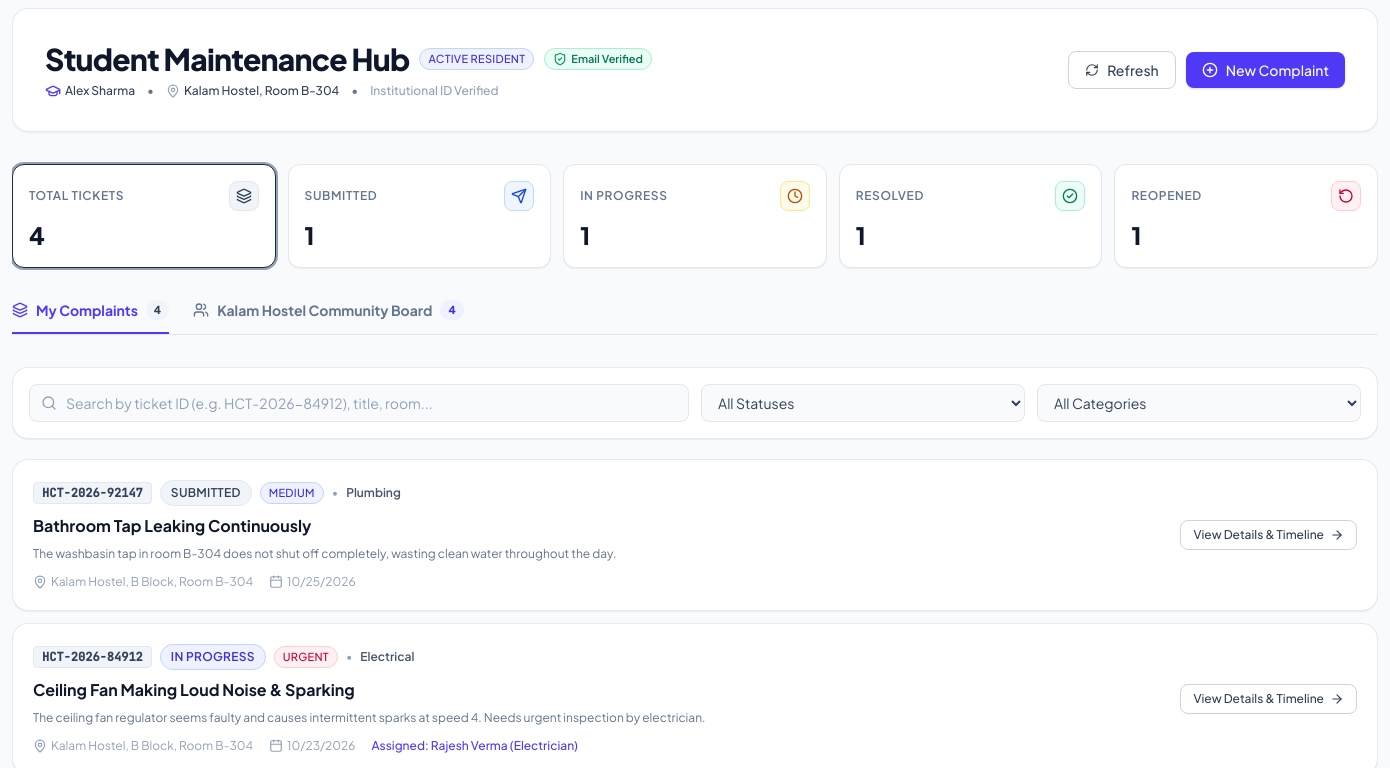
Scenario: StudentDashboardPage (Phase 2) › filters complaints by search query
Expected: the heading "Ceiling Fan Making Loud Noise & Sparking" is shown, [33,679,355,700]
Type "Ceiling Fan" into the field named "Search complaints by ticket ID, title, or room" at [359, 403], box [29,384,689,422]
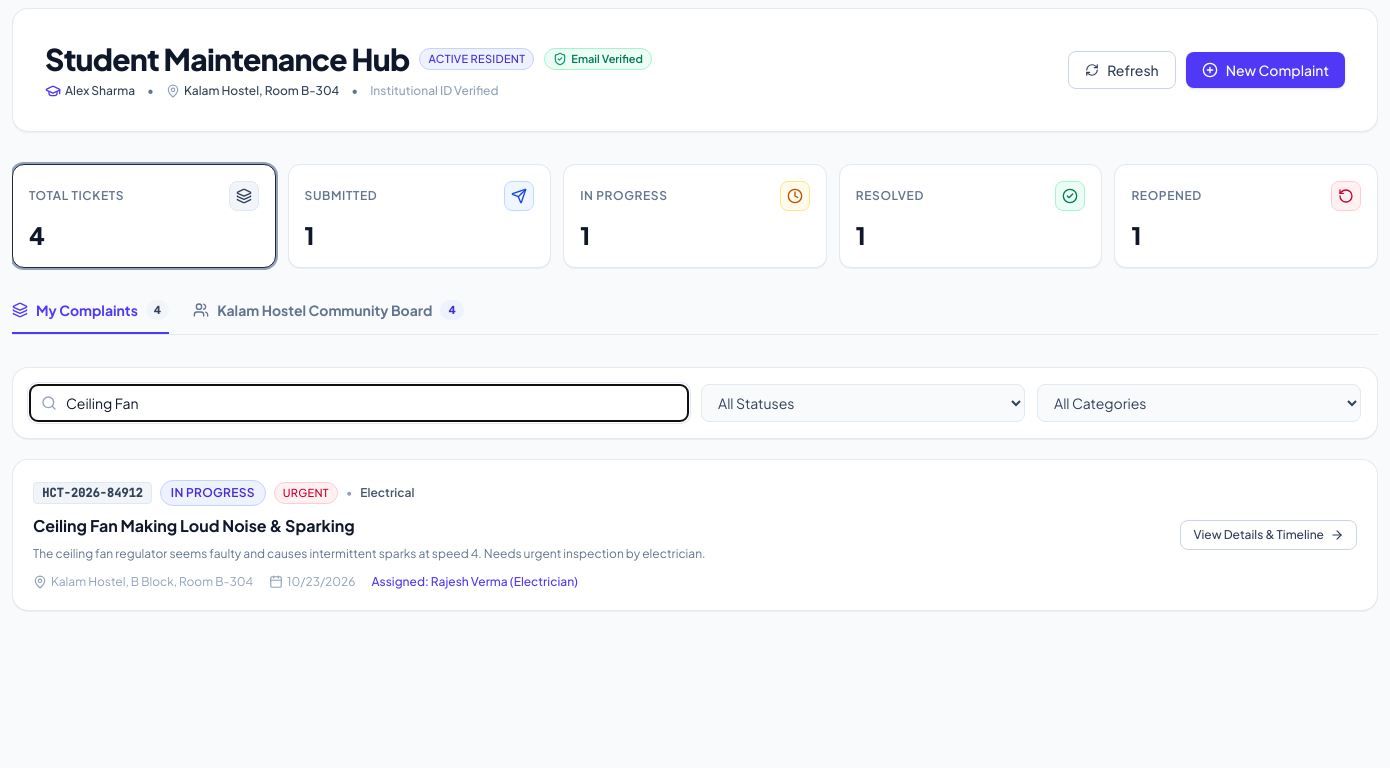
Expected: the heading "Ceiling Fan Making Loud Noise & Sparking" is shown, [33,515,355,536]
Expected: the heading "Bathroom Tap Leaking Continuously" is gone
